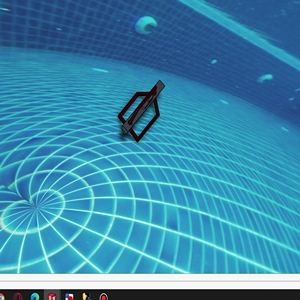submarine: (119, 76, 165, 139)
